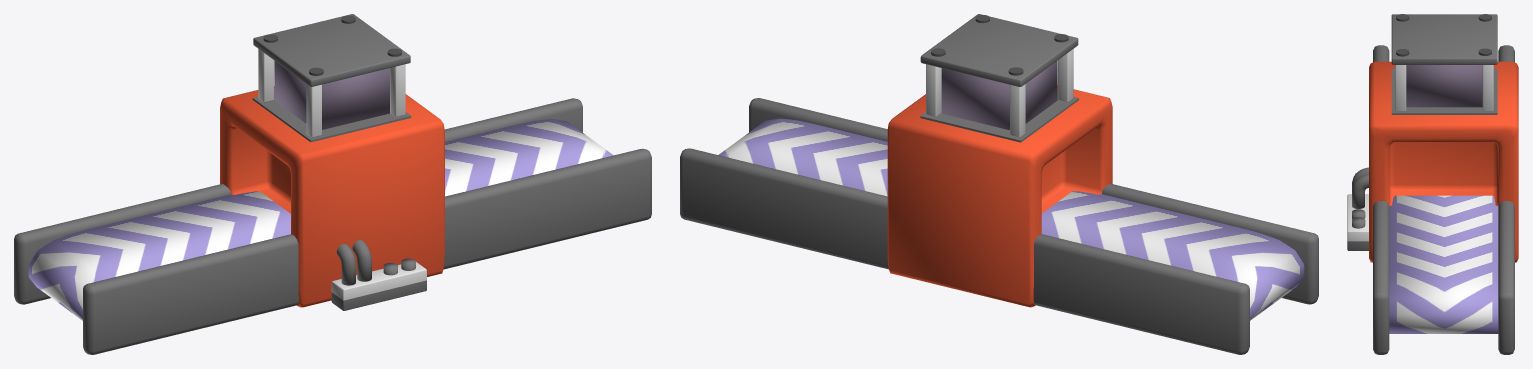
File: BookMachine.fbx
3 renders of one model, left to right at view 1: azimuth 30°, elevation 25°; view 2: azimuth 150°, elevation 25°; view 3: azimuth 270°, elevation 25°, orthographic. The views are drawn at different scales.
Parts seen in each view (by area): view 1: Cube.013; view 2: Cube.013; view 3: Cube.013.
Boxes of the visible parts, bbox=[...] form: Cube.013: bbox=[14, 14, 651, 354]; Cube.013: bbox=[680, 14, 1318, 354]; Cube.013: bbox=[1347, 14, 1518, 354].
Bounding box in the file's own units: 5.39 × 1.99 × 1.55.
Materials: 6 (1 with a texture image).
